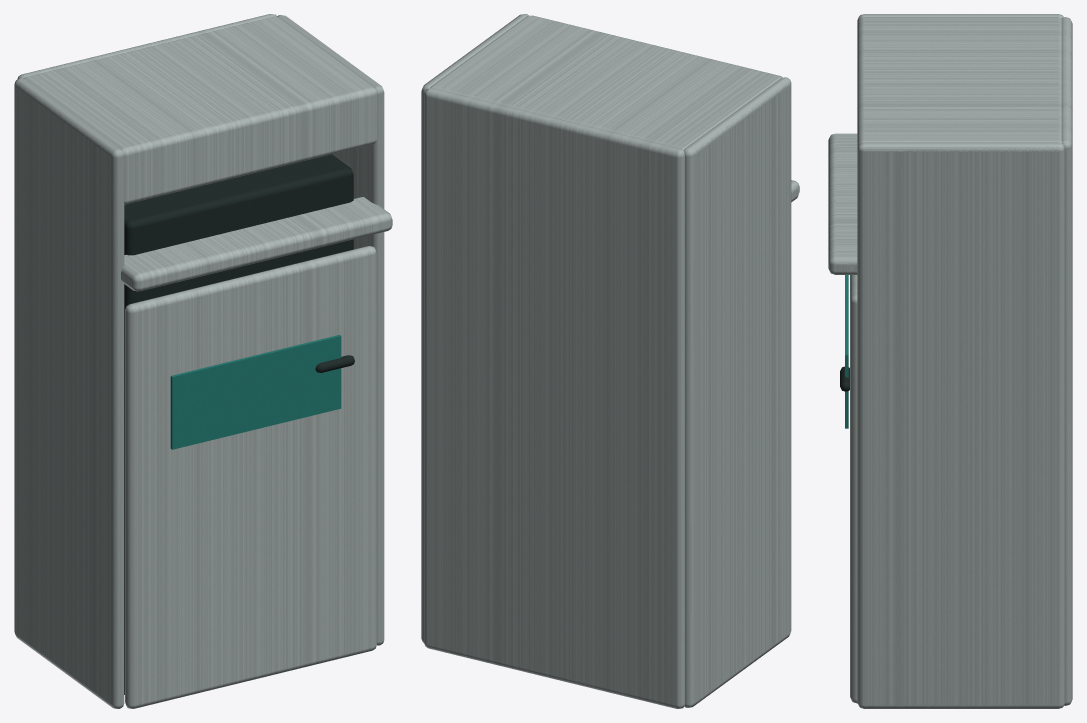
Rendered from detail-bin-slim-0.glb.
3 views of the same model, side by side, from view 1: azimuth 30°, elevation 25°; view 2: azimuth 150°, elevation 25°; view 3: azimuth 270°, elevation 25° (orthographic).
Visible parts, largest first — view 1: door_panel, side_shell (×2), hood, bin_inner_bag, label_recycle, opening_lip, back_shell; view 2: back_shell, side_shell (×2), hood; view 3: side_shell (×2), hood, back_shell, opening_lip, door_panel, label_recycle.
Boxes of the visible parts, x1=… form: door_panel: x1=125, y1=246, x2=376, y2=708; side_shell (×2): x1=14, y1=15, x2=384, y2=708; hood: x1=23, y1=16, x2=377, y2=204; bin_inner_bag: x1=124, y1=154, x2=353, y2=694; label_recycle: x1=170, y1=334, x2=341, y2=449; opening_lip: x1=121, y1=197, x2=392, y2=291; back_shell: x1=17, y1=14, x2=276, y2=79; back_shell: x1=424, y1=88, x2=684, y2=708; side_shell (×2): x1=421, y1=14, x2=791, y2=707; hood: x1=430, y1=15, x2=782, y2=150; side_shell (×2): x1=857, y1=14, x2=1065, y2=708; hood: x1=857, y1=17, x2=1061, y2=147; back_shell: x1=1061, y1=17, x2=1072, y2=705; opening_lip: x1=828, y1=133, x2=857, y2=274; door_panel: x1=850, y1=275, x2=857, y2=703; label_recycle: x1=845, y1=275, x2=848, y2=428.
Size of the model in its own units: 0.55 by 1.08 by 0.4225.
3 materials, 3 textured.
